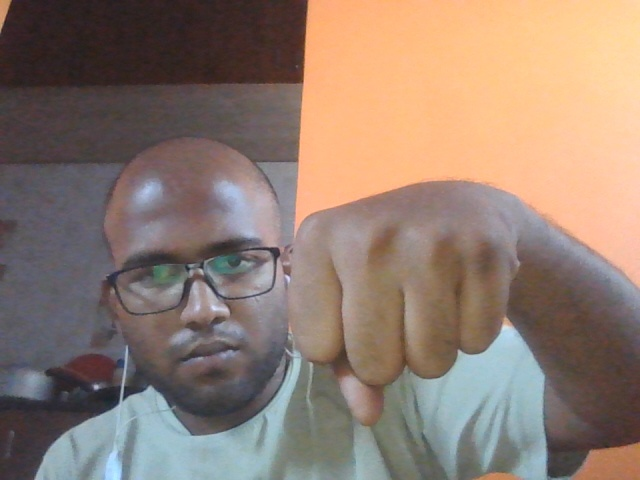yes: (255, 135, 569, 440)
